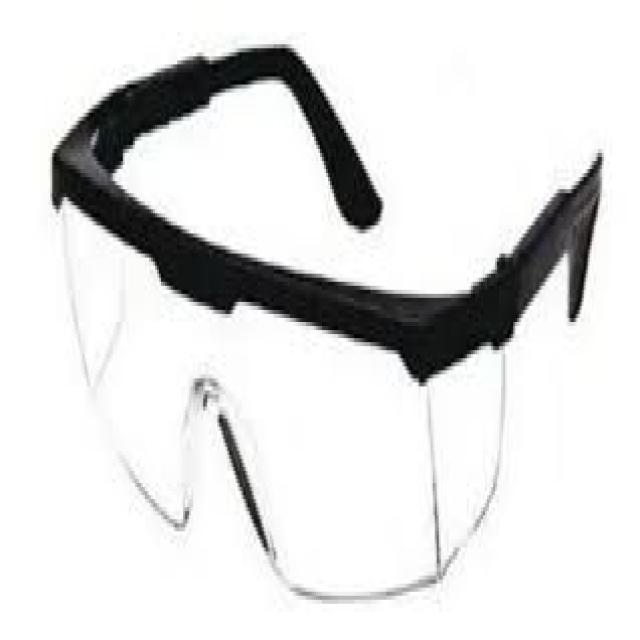oculos-epi: (50, 44, 602, 600), (52, 44, 602, 600)
